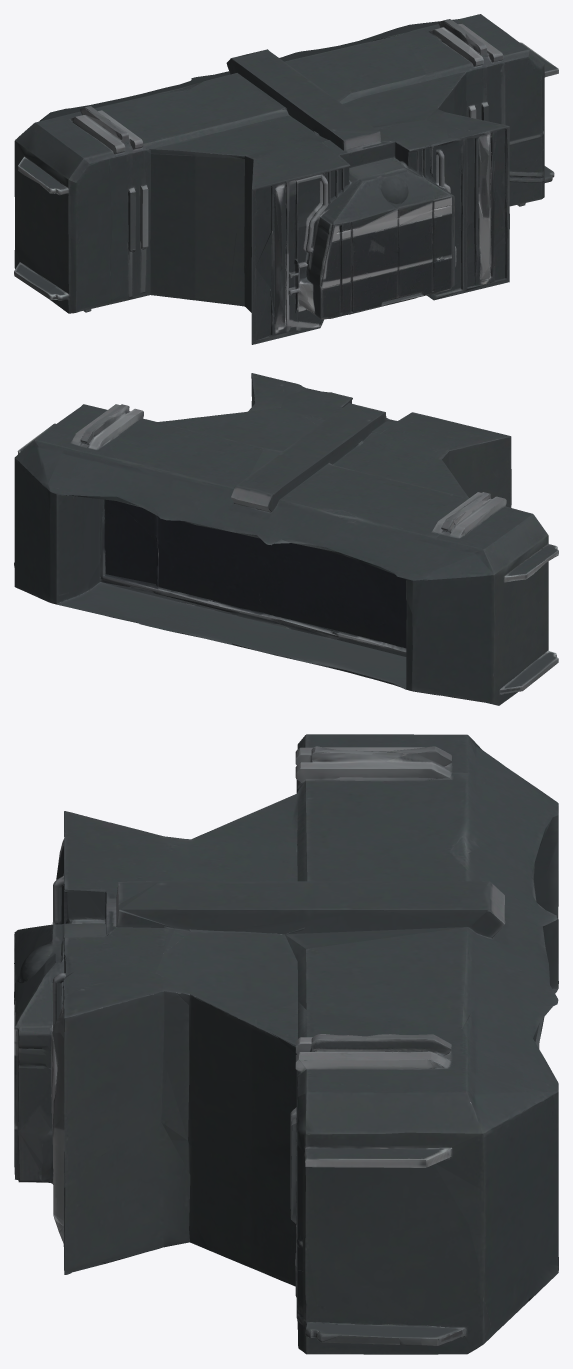
The model's file is shuttle.glb.
The picture shows the model from 3 angles, top to bottom: view 1: azimuth 30°, elevation 25°; view 2: azimuth 150°, elevation 25°; view 3: azimuth 270°, elevation 25°; orthographic projection. The views are drawn at different scales.
Parts seen in each view (by area): view 1: Mesh_0; view 2: Mesh_0; view 3: Mesh_0.
Boxes of the visible parts, x1,y1,x2,y2 form: Mesh_0: [14, 14, 558, 344]; Mesh_0: [14, 373, 558, 705]; Mesh_0: [14, 734, 558, 1354].
Bounding box in the file's own units: 1.9 × 0.6088 × 1.08.
1 material, 1 textured.
